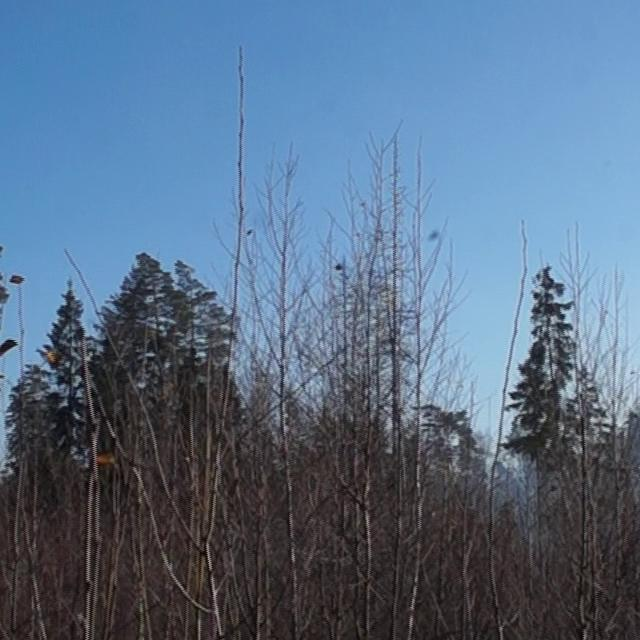Smoke: (470, 440, 556, 558)
